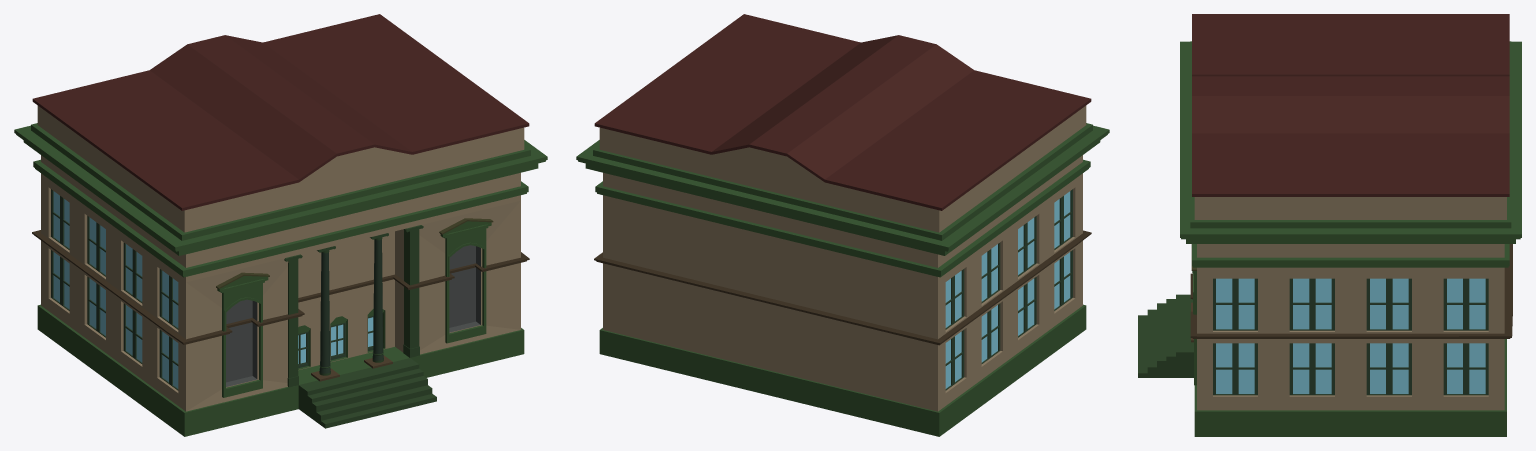
File: SM_Museum_01_B.gltf
3 views of the same model, side by side, from view 1: azimuth 30°, elevation 25°; view 2: azimuth 150°, elevation 25°; view 3: azimuth 270°, elevation 25° (orthographic). The views are drawn at different scales.
Parts seen in each view (by area): view 1: SM_Museum_01_B; view 2: SM_Museum_01_B; view 3: SM_Museum_01_B.
Part boxes in pixels (x1,y1,x2,y2): SM_Museum_01_B: (14,14,547,436); SM_Museum_01_B: (576,14,1109,436); SM_Museum_01_B: (1138,14,1521,436).
Size of the model in its own units: 4.9 by 3.11 by 4.12.
